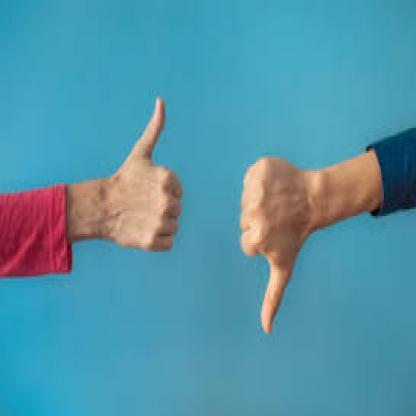thumb_down: (239, 149, 310, 335)
thumb_up: (104, 90, 185, 254)
